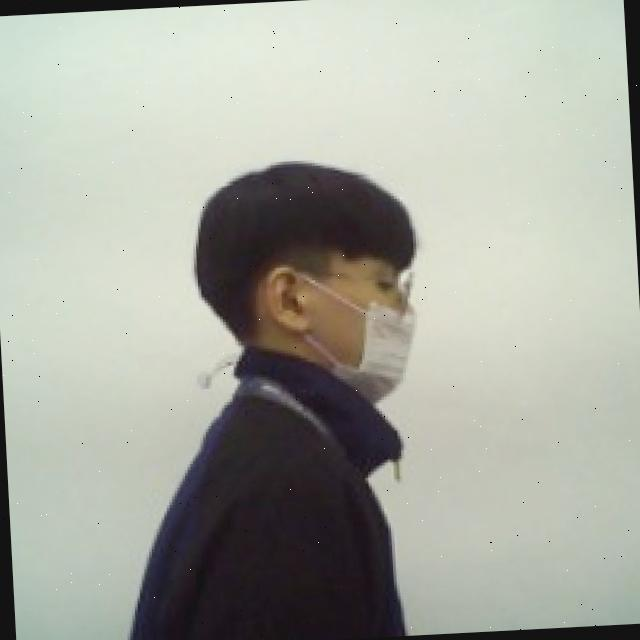mask: (266, 256, 428, 414)
no_gloves: (184, 149, 425, 330)
